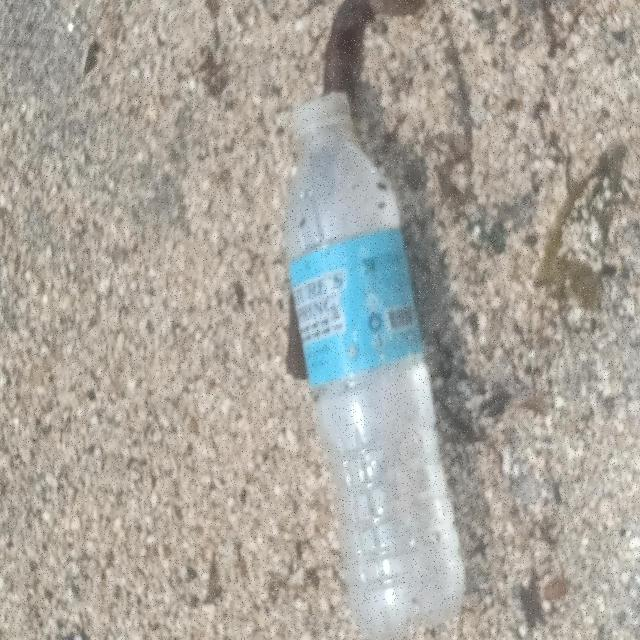plastic_waste: (284, 92, 466, 640)
